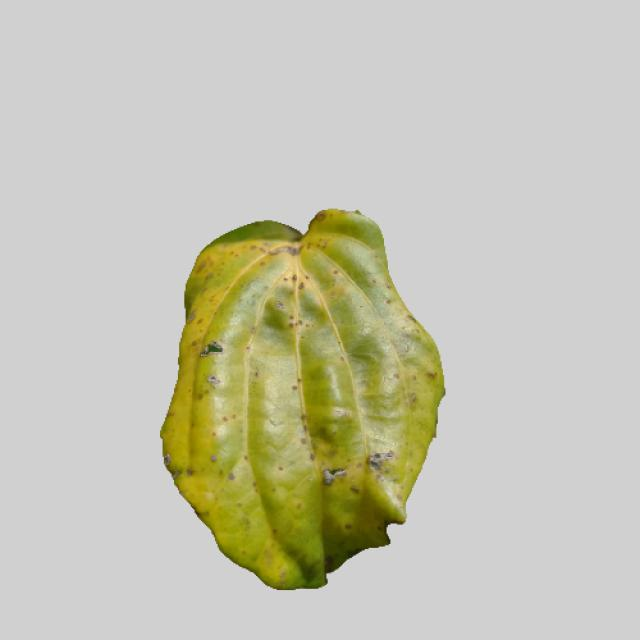yellow-mottle-virus: (145, 218, 453, 595)
